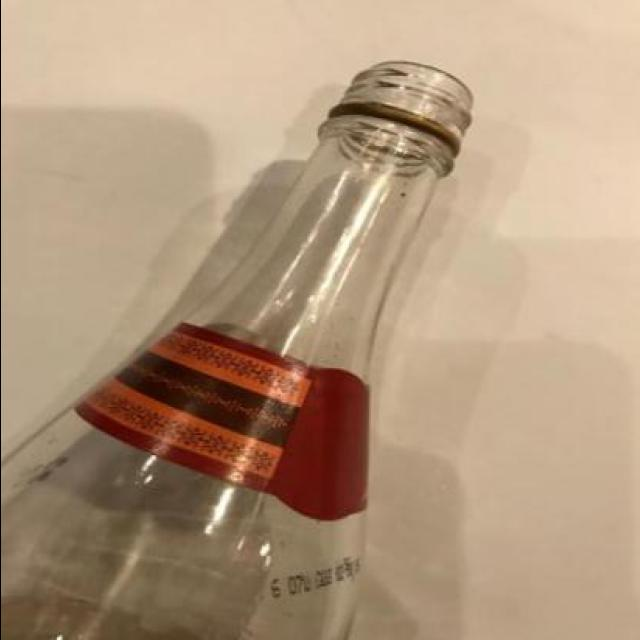kaca: (0, 59, 477, 640)
